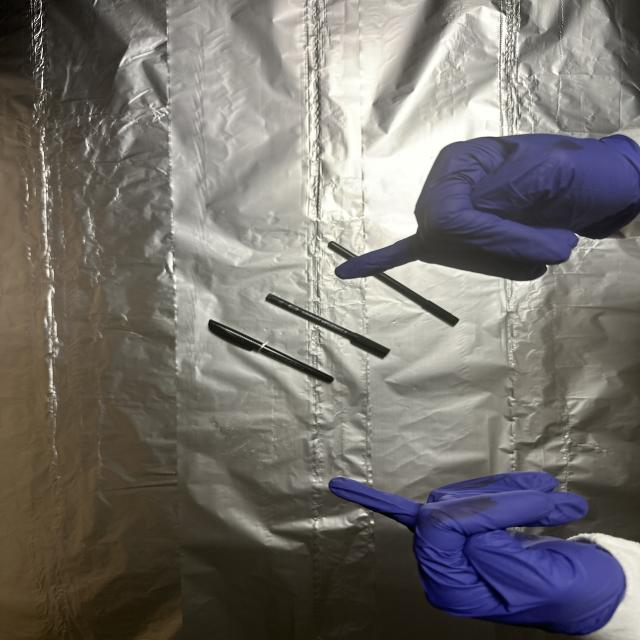gloves_contaminated: (330, 472, 630, 635), (336, 134, 640, 281)
